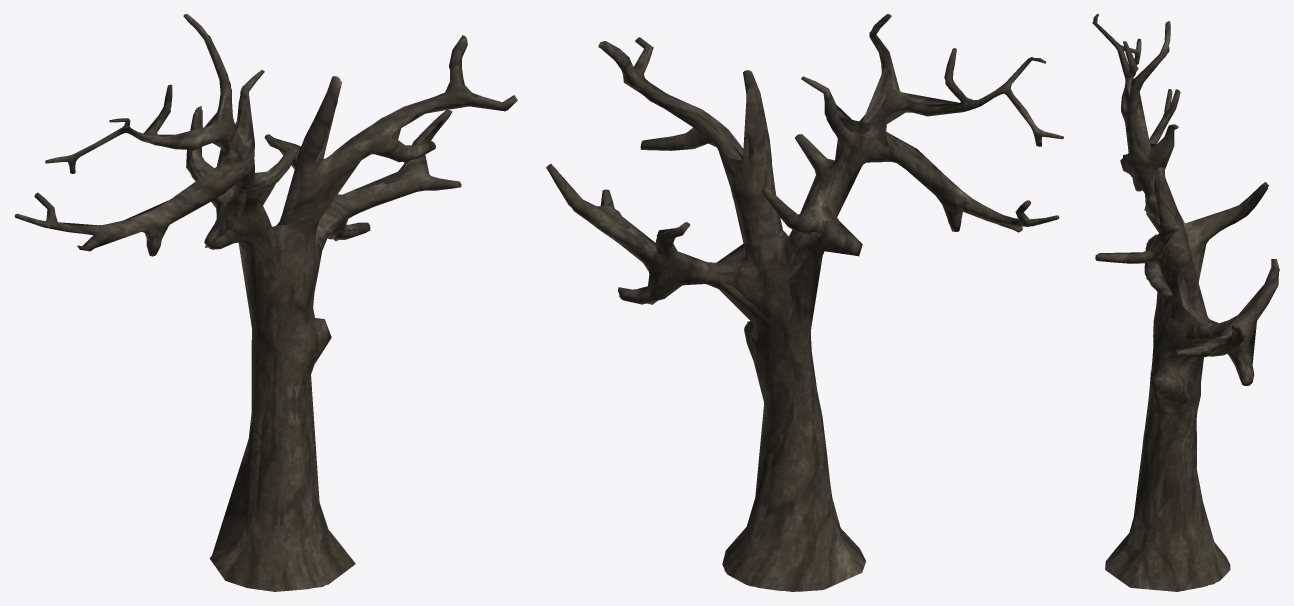
Rendered from squidgame_trees_tree1.fbx.
The picture shows the model from 3 angles, left to right: view 1: azimuth 30°, elevation 25°; view 2: azimuth 150°, elevation 25°; view 3: azimuth 270°, elevation 25°; orthographic projection. The views are drawn at different scales.
Parts seen in each view (by area): view 1: squidgame_trees_tree1, squidgame_trees_tree1_LOD; view 2: squidgame_trees_tree1, squidgame_trees_tree1_LOD; view 3: squidgame_trees_tree1, squidgame_trees_tree1_LOD.
Part boxes in pixels (box(x1,y1,x2,y2)): squidgame_trees_tree1: box(14, 14, 517, 591); squidgame_trees_tree1_LOD: box(33, 15, 505, 591); squidgame_trees_tree1: box(547, 14, 1063, 591); squidgame_trees_tree1_LOD: box(546, 31, 1043, 591); squidgame_trees_tree1: box(1093, 14, 1279, 591); squidgame_trees_tree1_LOD: box(1092, 21, 1277, 591).
Bounding box in the file's own units: 15.26 × 17.55 × 5.92.
